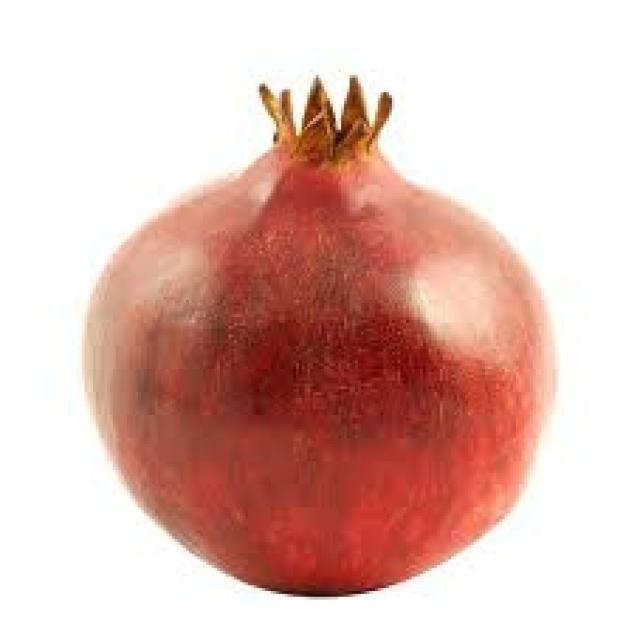Pomegranate: (51, 51, 609, 612)
